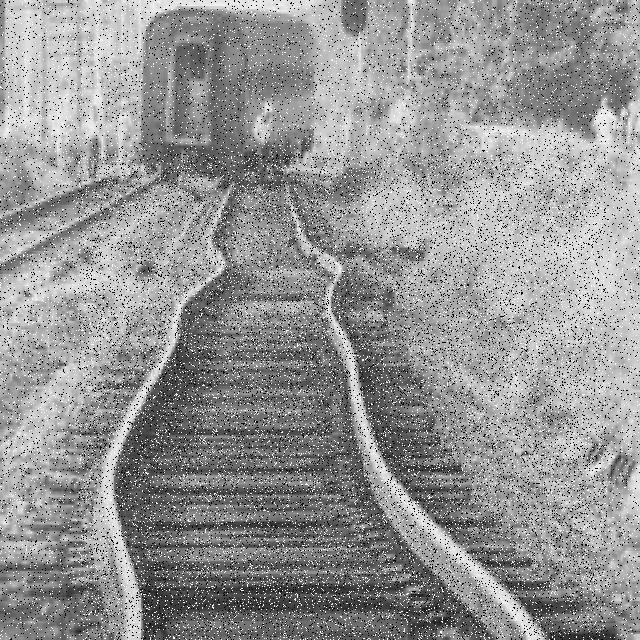rail: (68, 176, 583, 636), (1, 166, 167, 296)
